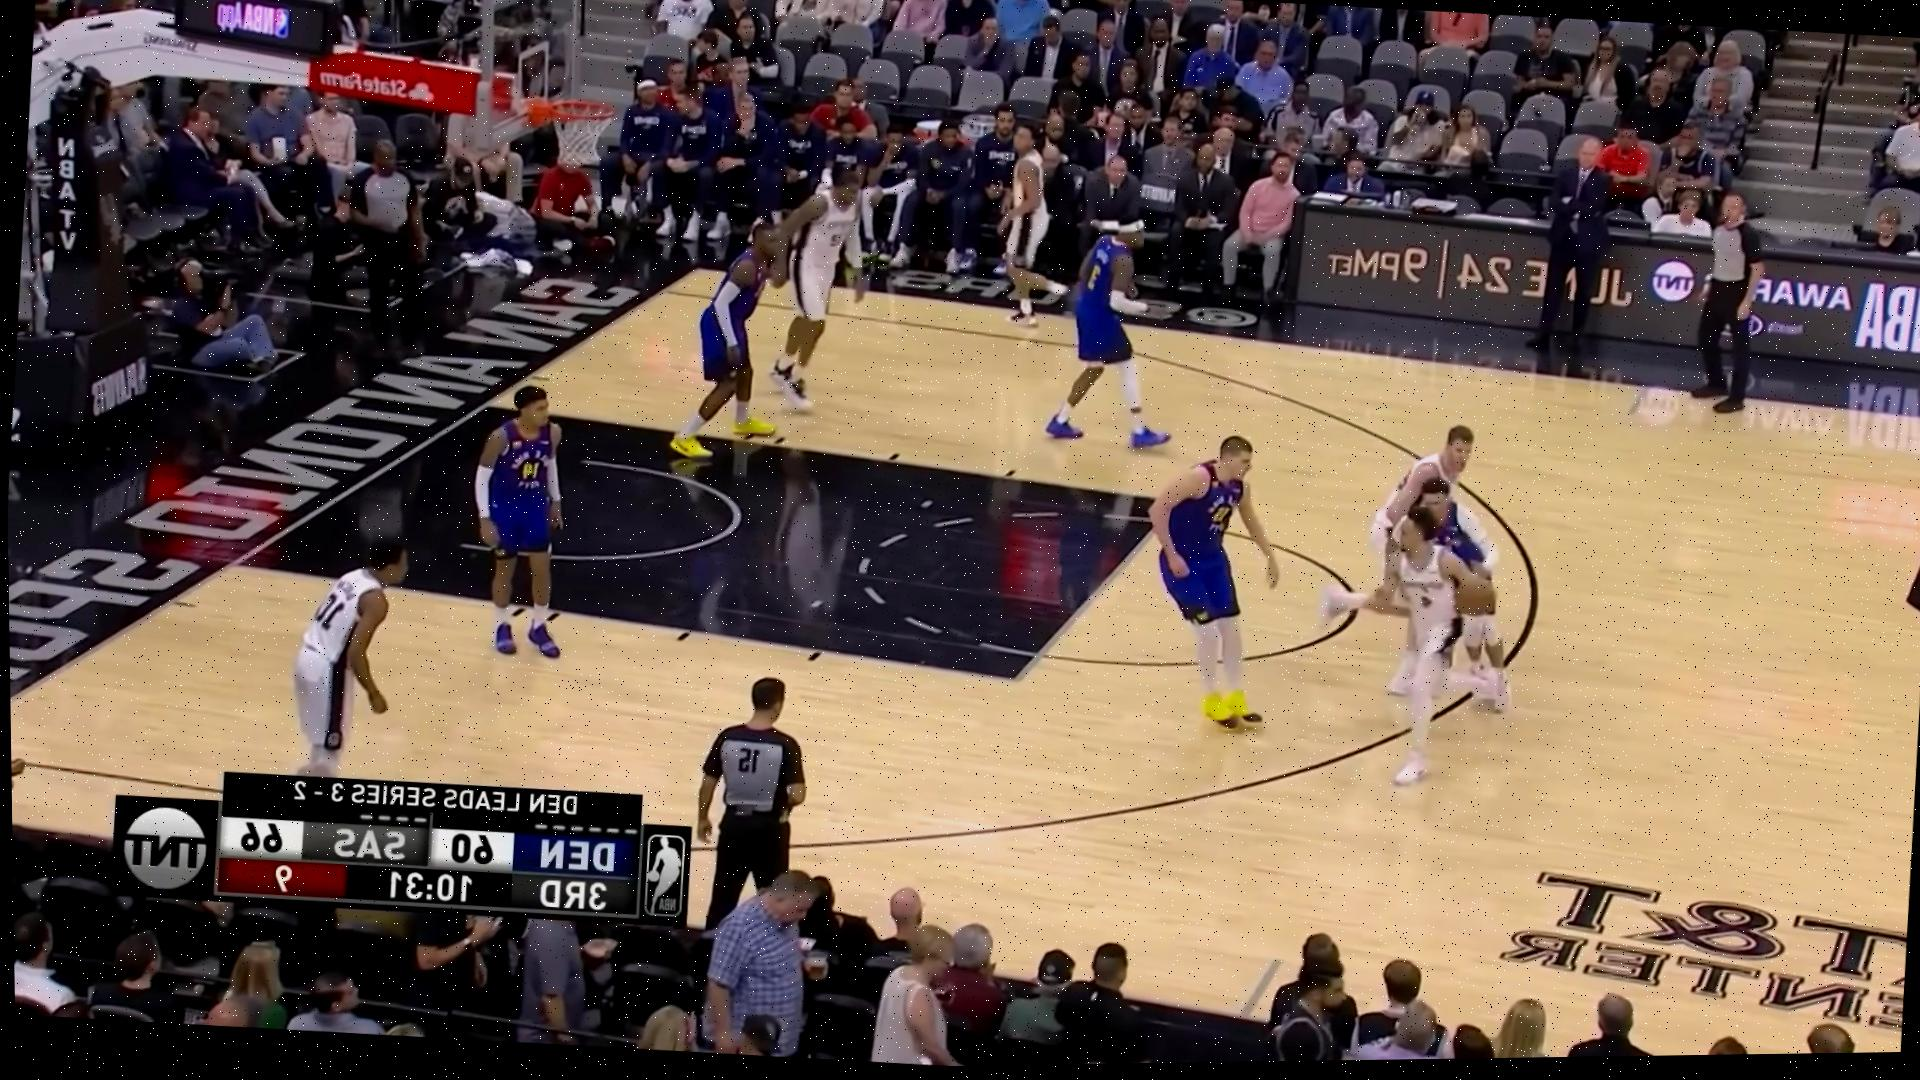no_foul: (1301, 424, 1536, 788)
